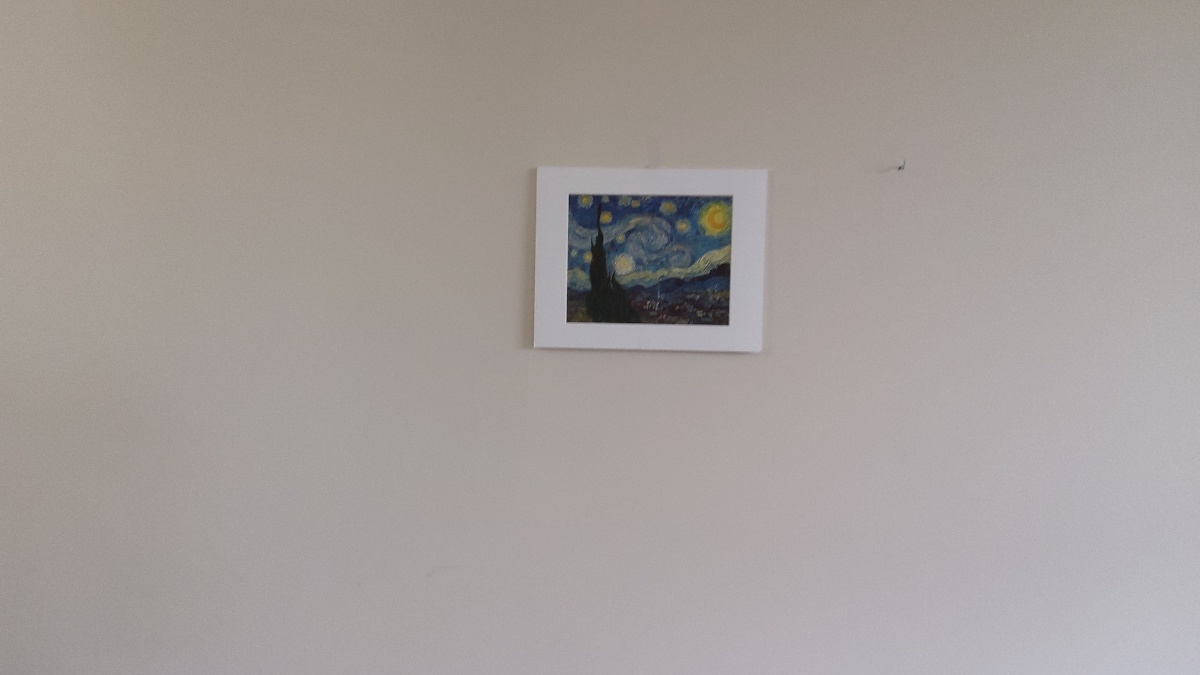painting: (561, 186, 738, 328)
